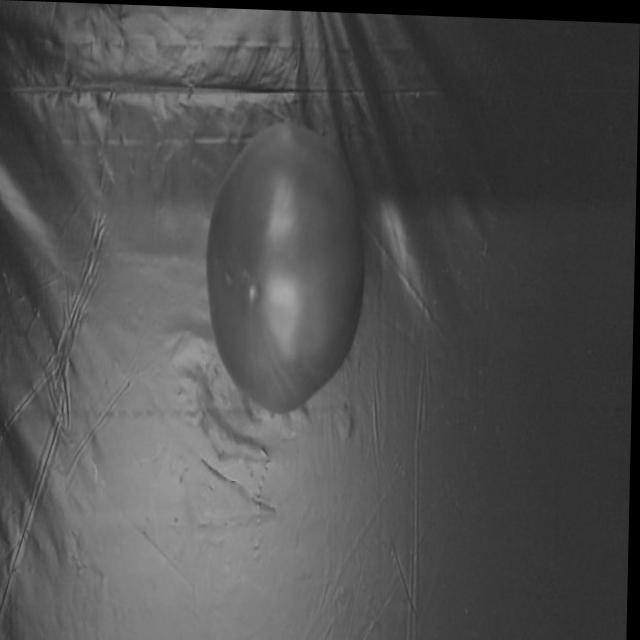kirmizi: (191, 74, 379, 438)
